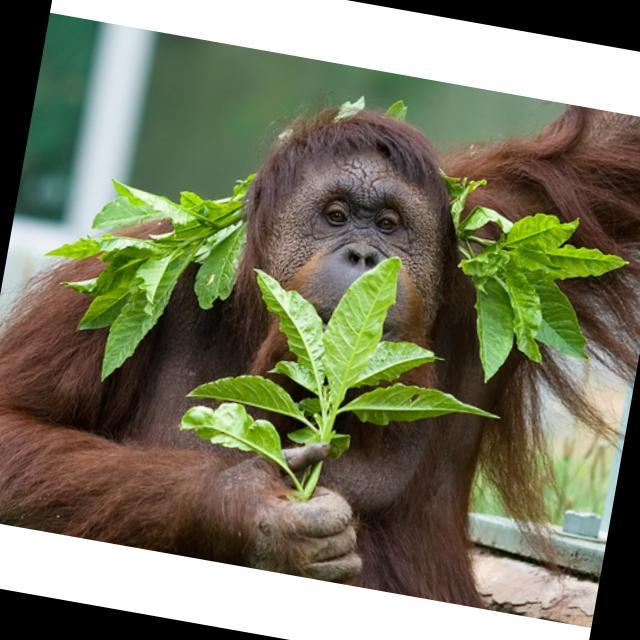Orangutan: (0, 114, 640, 554)
